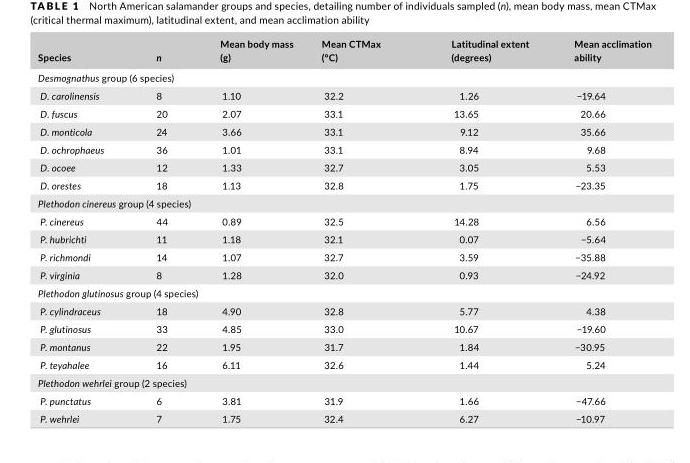table: (37, 37, 650, 423)
table column: (415, 37, 550, 423), (193, 37, 306, 423), (306, 37, 415, 423), (550, 37, 650, 423), (37, 37, 129, 423), (129, 37, 193, 423)
table column header: (37, 37, 650, 66)
table projected row header: (37, 66, 650, 86), (37, 193, 650, 211), (37, 283, 650, 301), (37, 373, 650, 391)
table row: (37, 37, 650, 66), (37, 66, 650, 86), (37, 86, 650, 104), (37, 104, 650, 122), (37, 139, 650, 157), (37, 157, 650, 175), (37, 175, 650, 193), (37, 193, 650, 211), (37, 211, 650, 229), (37, 229, 650, 247), (37, 247, 650, 265), (37, 265, 650, 283), (37, 283, 650, 301), (37, 301, 650, 319), (37, 319, 650, 337), (37, 337, 650, 355), (37, 355, 650, 373), (37, 373, 650, 391), (37, 391, 650, 409), (37, 122, 650, 139), (37, 409, 650, 423)
